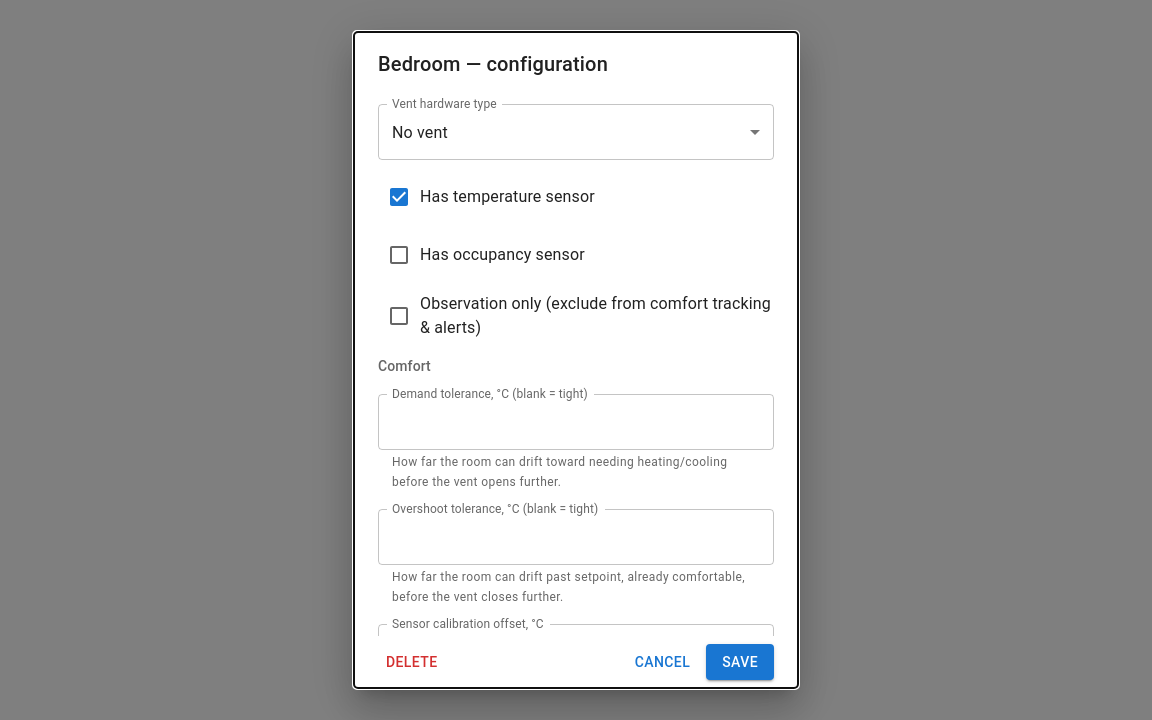
Test: ZoneDetailDialog › allows converting to manual fixed vent even while linked to a Flair room
The width and height of the screenshot is (1152, 720).
Click the dropdown named "Vent hardware type": point(420, 132) [392,122,448,142]
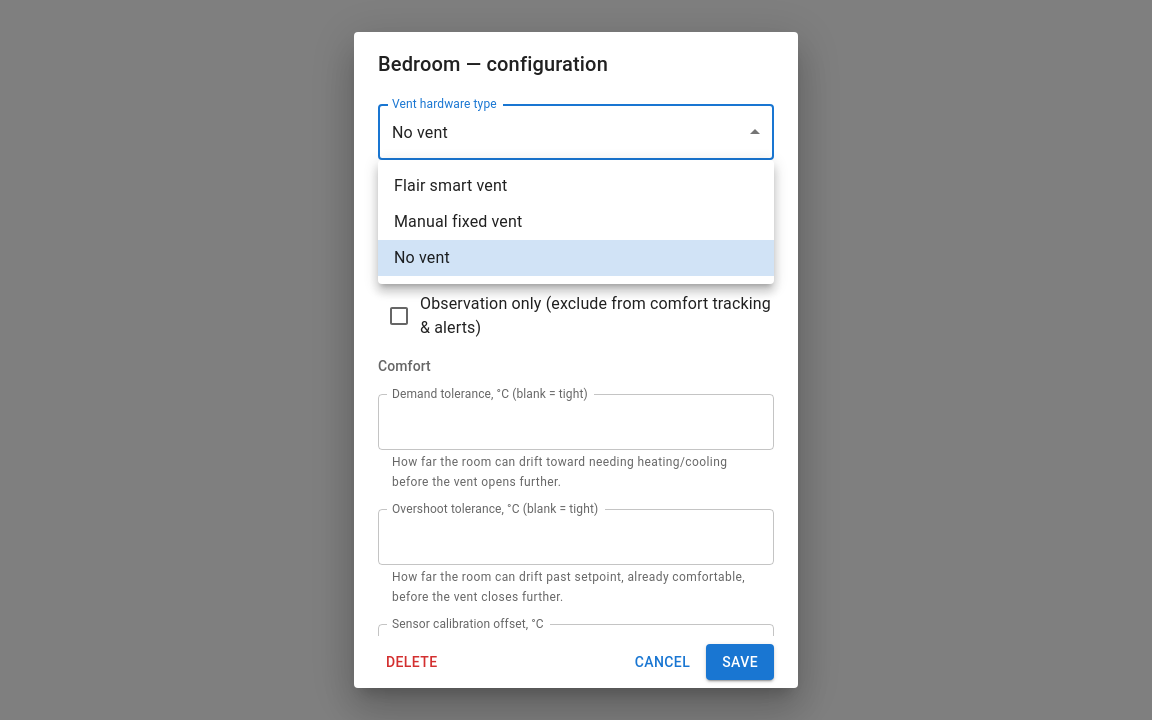
Click the option "Manual fixed vent": point(458, 222) [394,212,522,231]
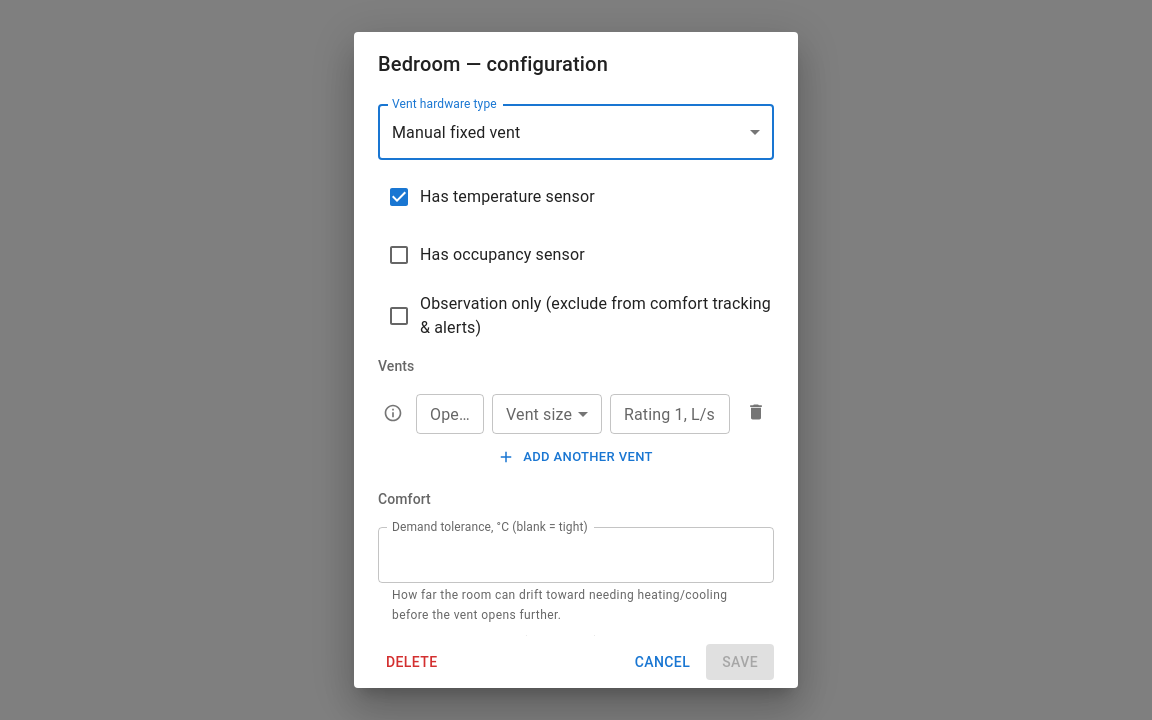
Result: the number field labelled "Open Position 1" is shown at [416,394,484,434]
